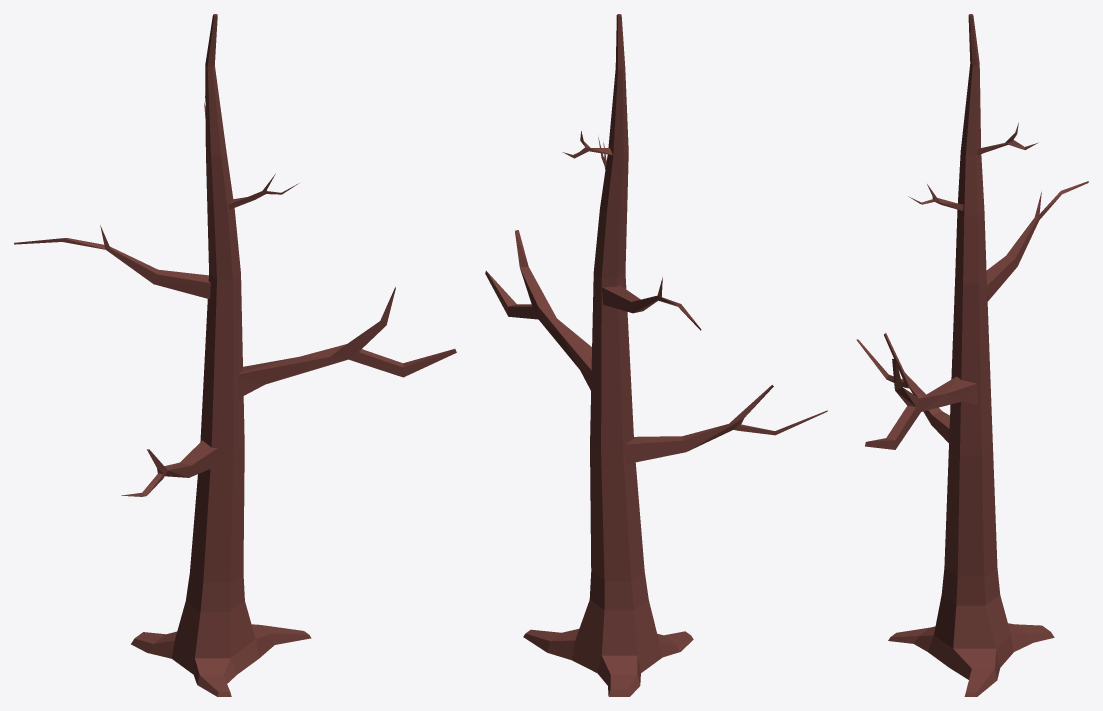
The model's file is DeadTree01.fbx.
3 renders of one model, left to right at view 1: azimuth 30°, elevation 25°; view 2: azimuth 150°, elevation 25°; view 3: azimuth 270°, elevation 25°, orthographic.
Visible parts, largest first — view 1: Tree_03; view 2: Tree_03; view 3: Tree_03.
Boxes of the visible parts, x1,y1,x2,y2 form: Tree_03: (14,14,456,696); Tree_03: (485,14,827,696); Tree_03: (856,14,1088,696).
Bounding box in the file's own units: 243 × 441 × 146.
